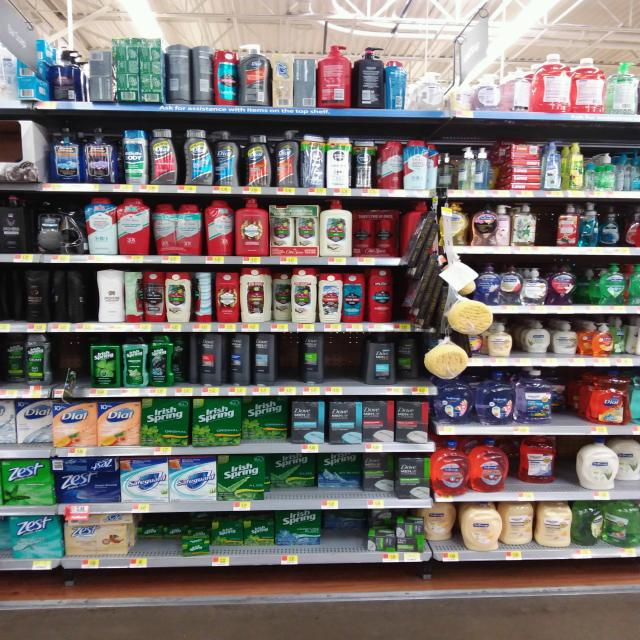empty: (53, 336, 88, 395), (327, 338, 367, 387), (274, 332, 298, 385), (534, 205, 562, 245)
